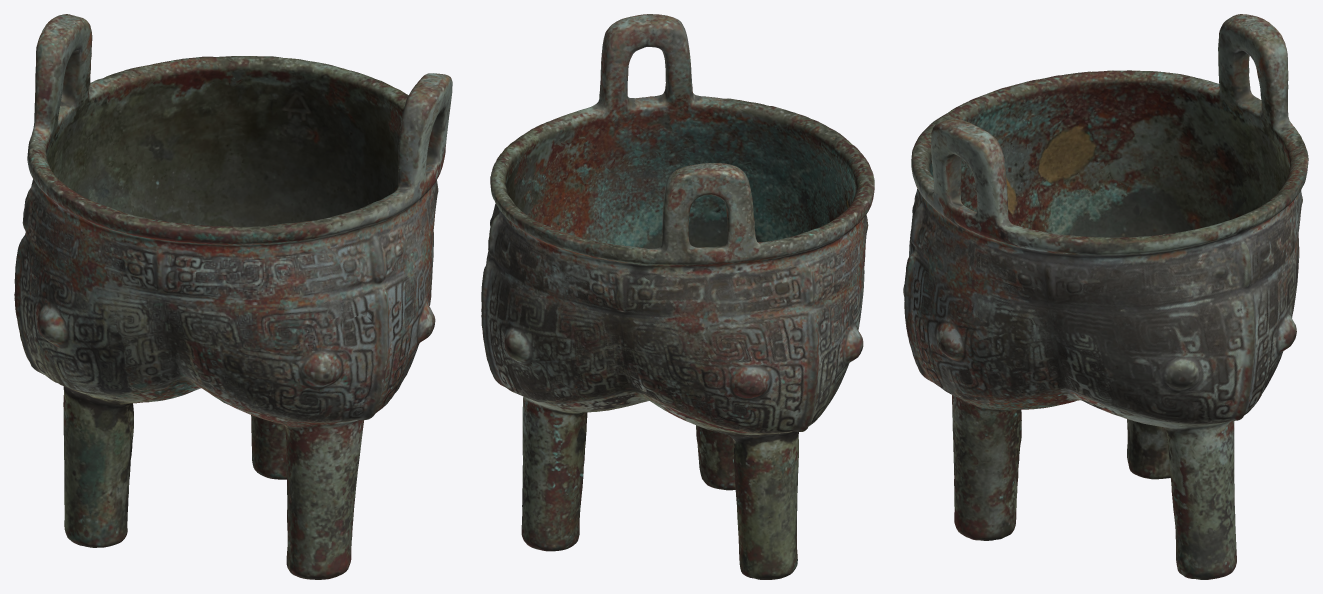
The model's file is 息铜鼎.glb.
3 renders of one model, left to right at view 1: azimuth 30°, elevation 25°; view 2: azimuth 150°, elevation 25°; view 3: azimuth 270°, elevation 25°, orthographic. The views are drawn at different scales.
Visible parts, largest first — view 1: Object_2; view 2: Object_2; view 3: Object_2.
Boxes of the visible parts, x1,y1,x2,y2 form: Object_2: (14, 14, 452, 579); Object_2: (481, 14, 874, 579); Object_2: (903, 14, 1308, 579).
Size of the model in its own units: 1.22 by 1.48 by 1.19.
1 material, 1 textured.
